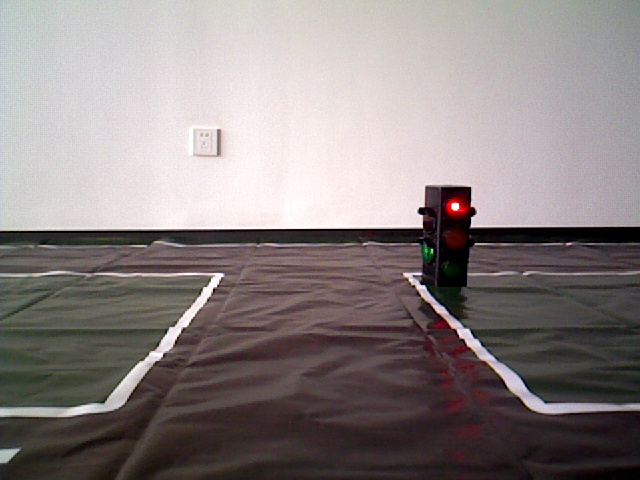red: (423, 185, 467, 290)
